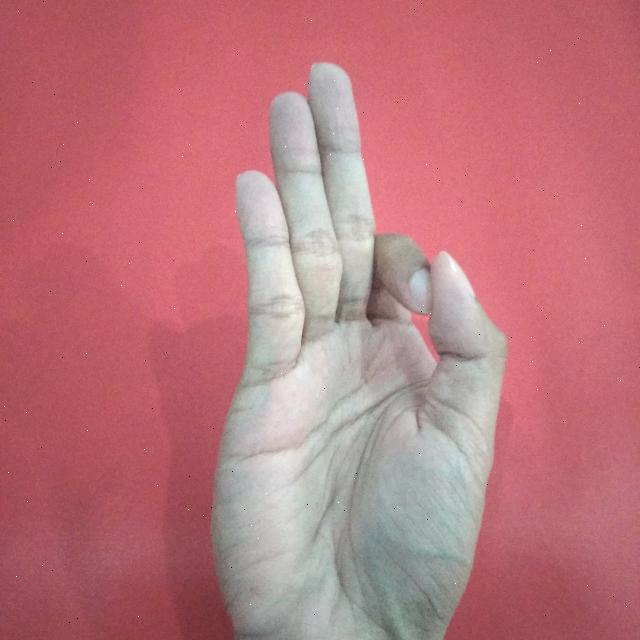F: (210, 59, 511, 640)
